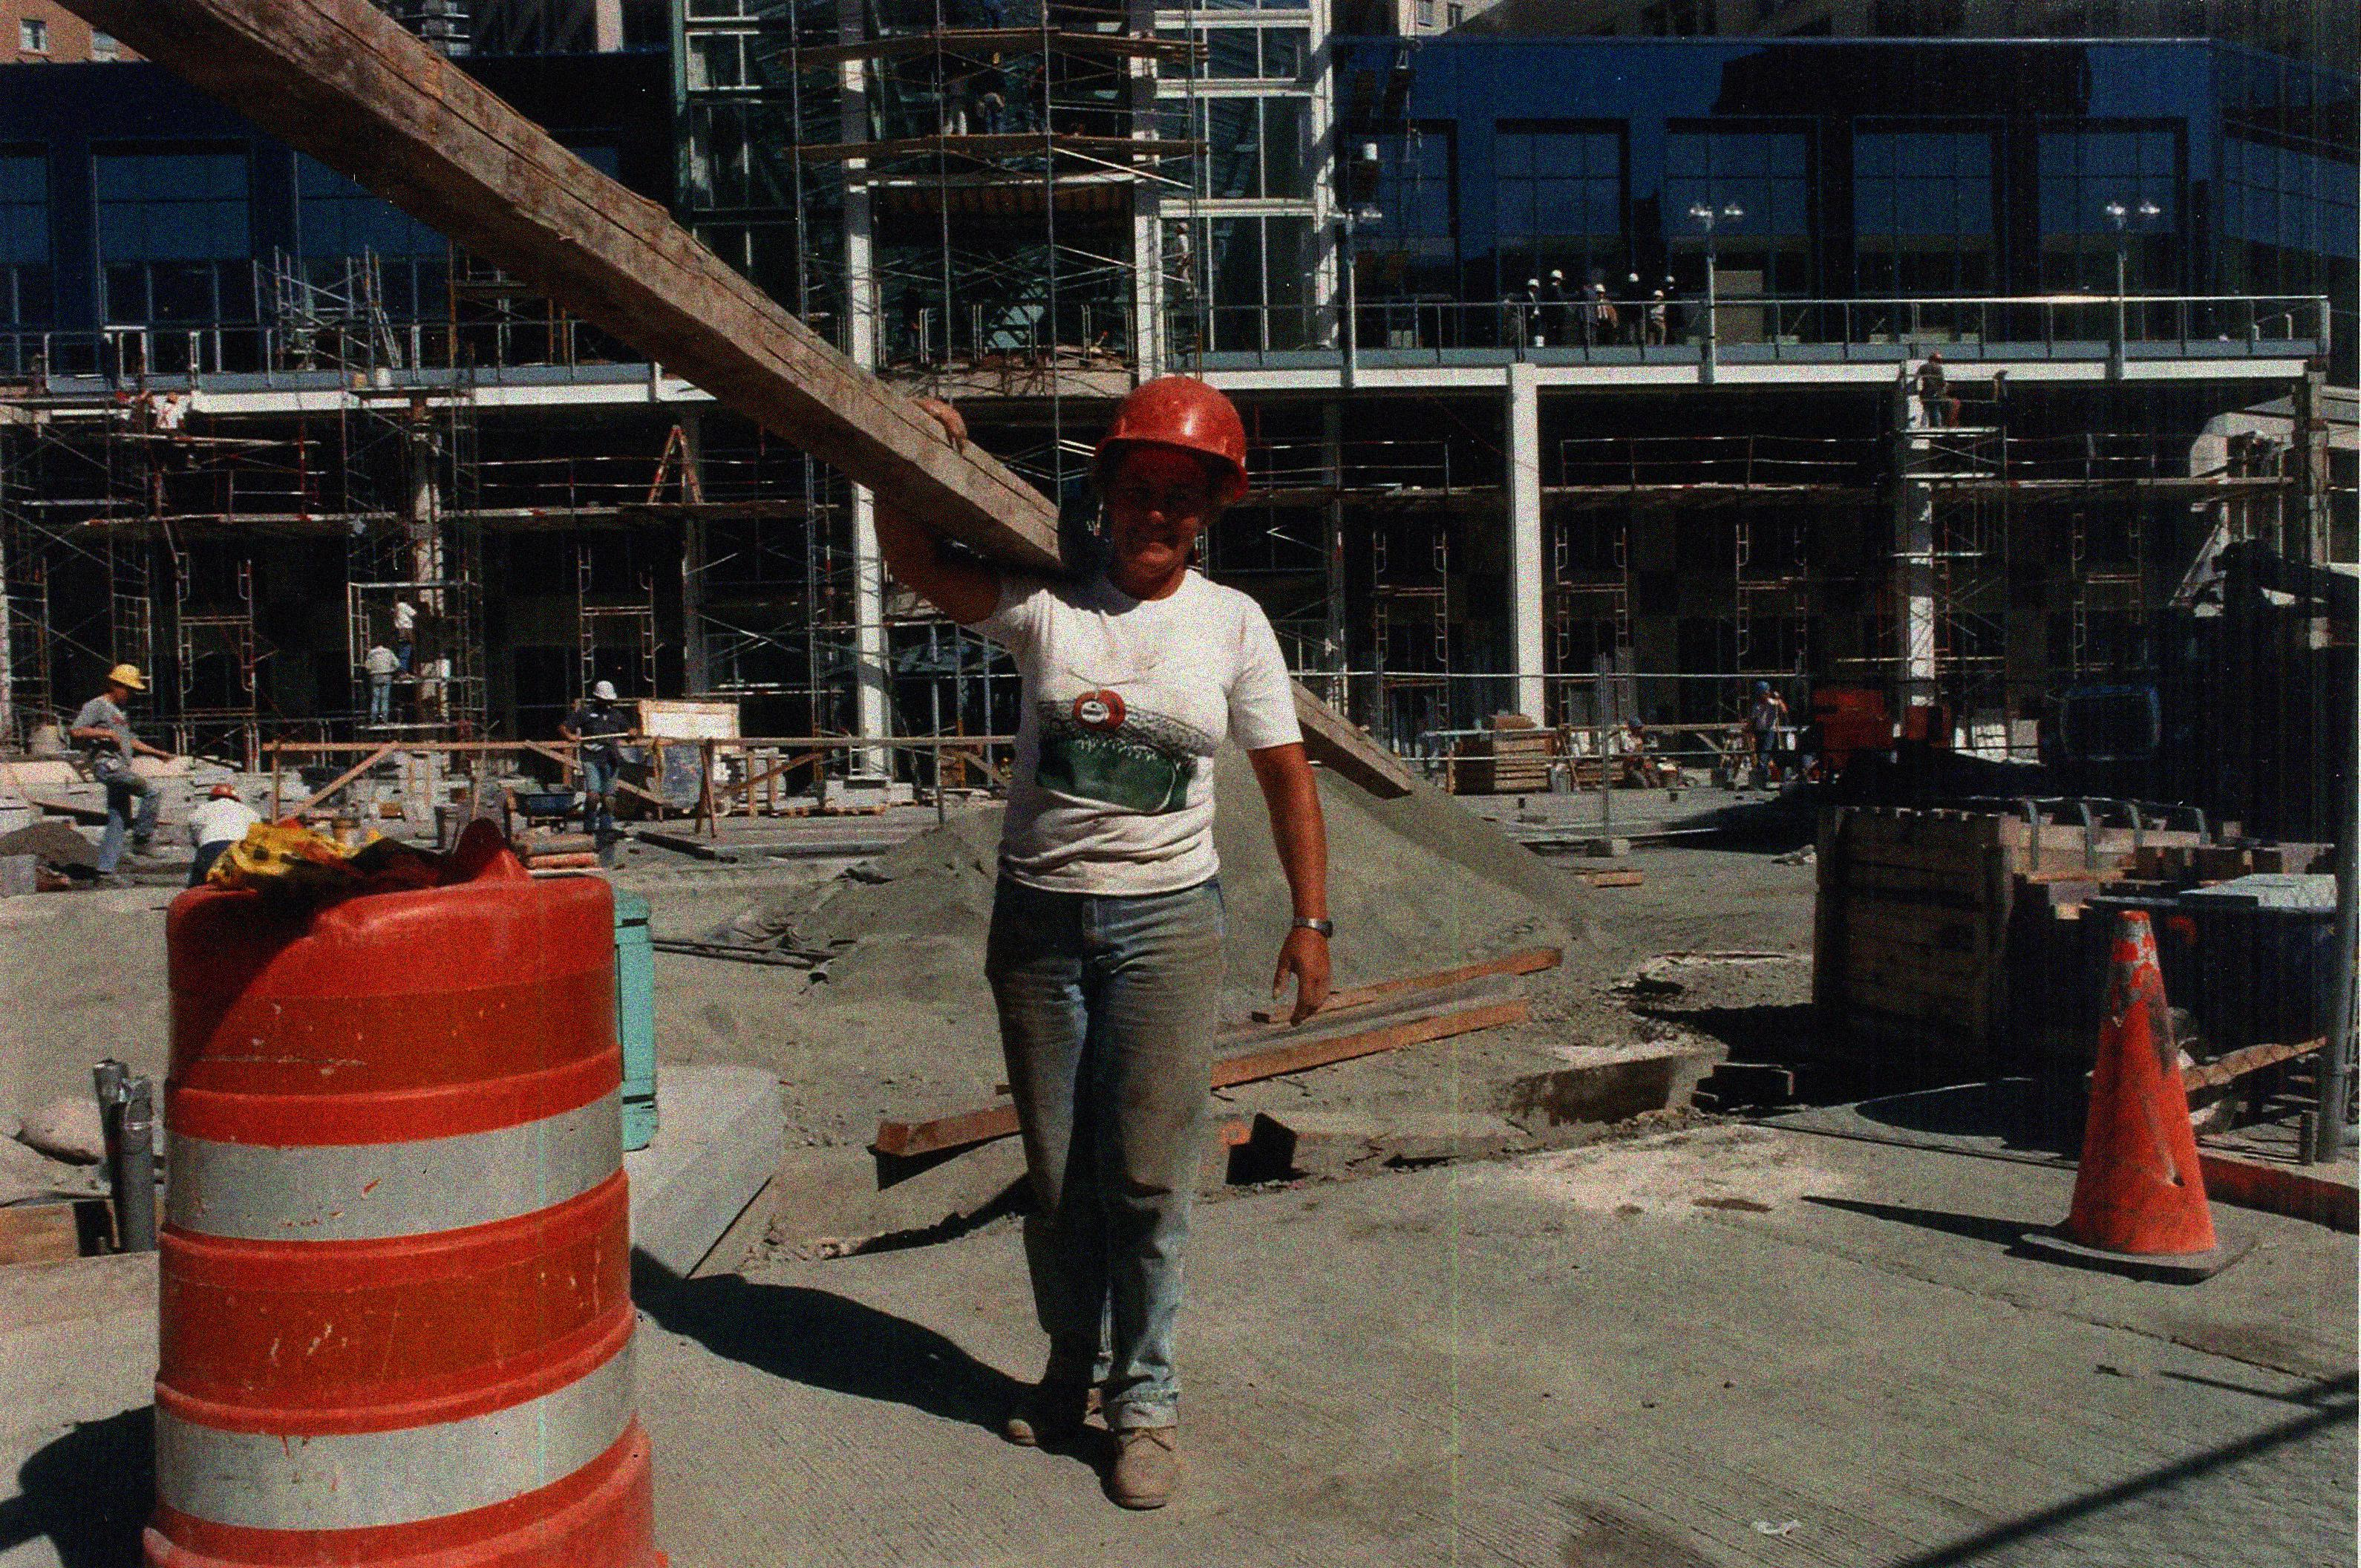helmet: (1089, 373, 1253, 588), (107, 663, 147, 705), (593, 681, 618, 709), (1754, 681, 1773, 705), (1526, 276, 1542, 292), (1549, 268, 1563, 285), (1929, 352, 1944, 366), (1594, 283, 1607, 299), (166, 390, 179, 404), (1652, 289, 1664, 301), (1664, 275, 1675, 289), (1628, 273, 1640, 283)
